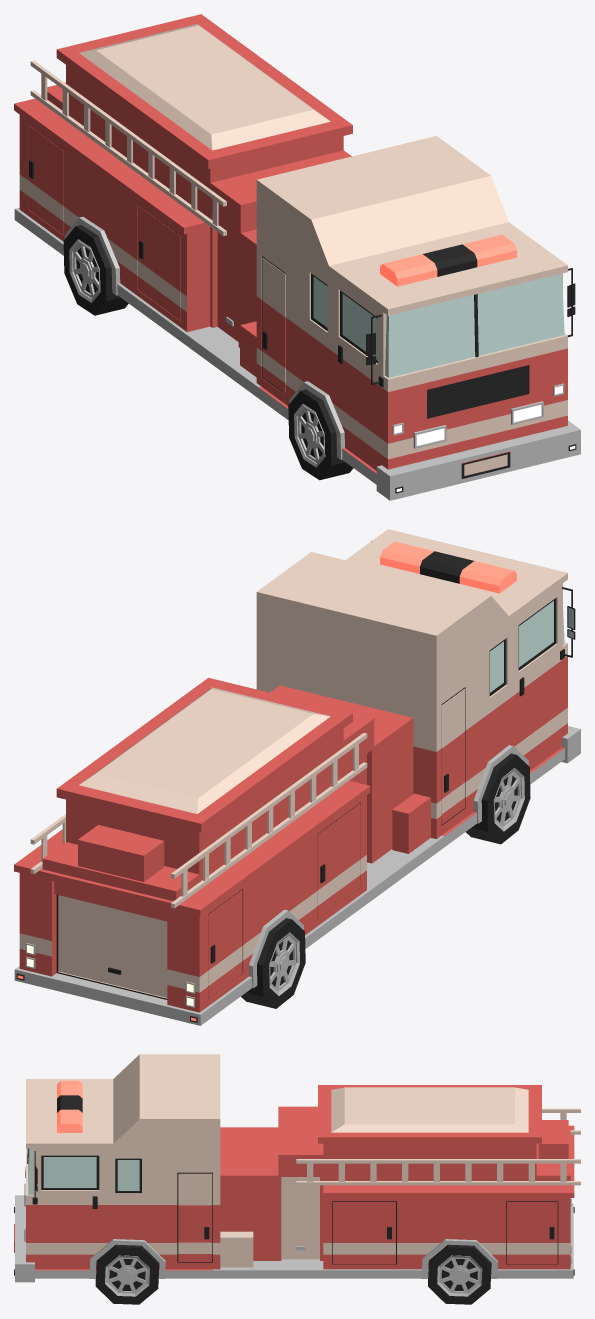
Rendered from Bomberos.fbx.
The picture shows the model from 3 angles, top to bottom: view 1: azimuth 30°, elevation 25°; view 2: azimuth 150°, elevation 25°; view 3: azimuth 270°, elevation 25°; orthographic projection. The views are drawn at different scales.
Parts seen in each view (by area): view 1: fire_truck; view 2: fire_truck; view 3: fire_truck.
Boxes of the visible parts, box(x1,y1,x2,y2) form: fire_truck: box(14, 14, 580, 500); fire_truck: box(14, 529, 580, 1025); fire_truck: box(14, 1054, 580, 1304).
Bounding box in the file's own units: 311 × 350 × 988.
